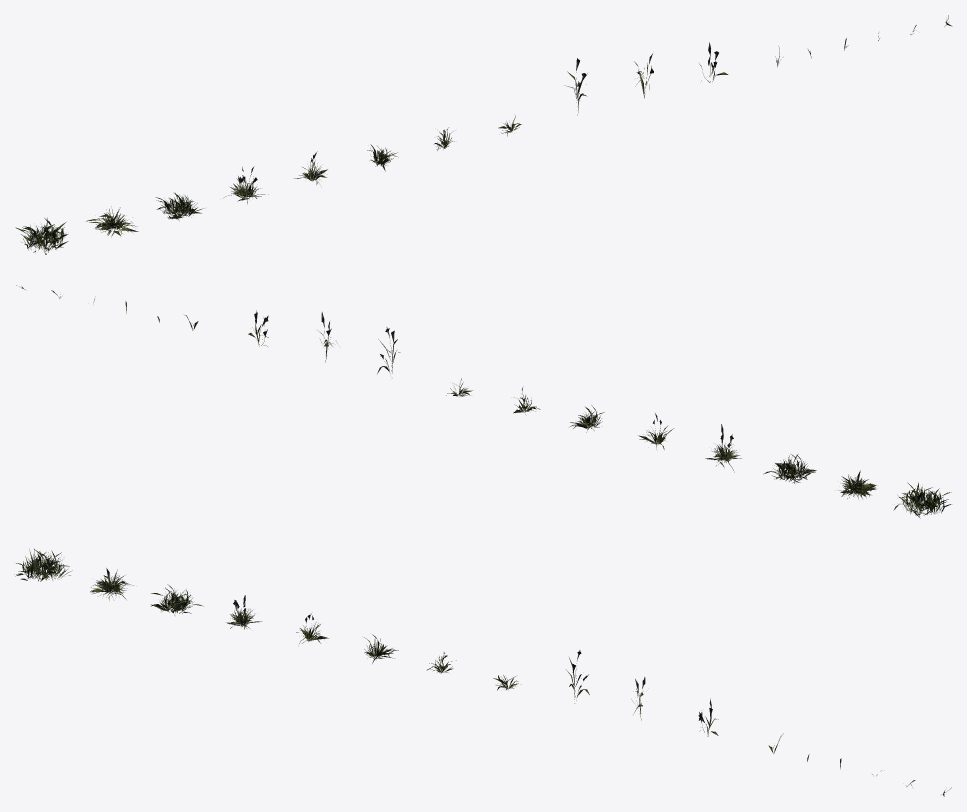
Rendered from grass_medium_01.lod.glb.
3 renders of one model, top to bottom at view 1: azimuth 30°, elevation 25°; view 2: azimuth 150°, elevation 25°; view 3: azimuth 330°, elevation 25°, orthographic.
Visible parts, largest first — view 1: grass_medium_01_large_a_LOD0, grass_medium_01_large_c_LOD0, grass_medium_01_large_b_LOD0; view 2: grass_medium_01_large_a_LOD0, grass_medium_01_large_c_LOD0, grass_medium_01_large_b_LOD0; view 3: grass_medium_01_large_a_LOD0, grass_medium_01_large_c_LOD0.
Part boxes in pixels (bbox=[...]): grass_medium_01_large_a_LOD0: bbox=[15, 217, 68, 254]; grass_medium_01_large_c_LOD0: bbox=[155, 193, 203, 220]; grass_medium_01_large_b_LOD0: bbox=[86, 206, 138, 236]; grass_medium_01_large_a_LOD0: bbox=[893, 482, 951, 518]; grass_medium_01_large_c_LOD0: bbox=[763, 454, 816, 483]; grass_medium_01_large_b_LOD0: bbox=[838, 470, 876, 498]; grass_medium_01_large_a_LOD0: bbox=[14, 549, 72, 581]; grass_medium_01_large_c_LOD0: bbox=[151, 584, 203, 615].
Bounding box in the file's own units: 5.6 × 0.3426 × 0.3264.
Materials: 1 (1 with a texture image).
